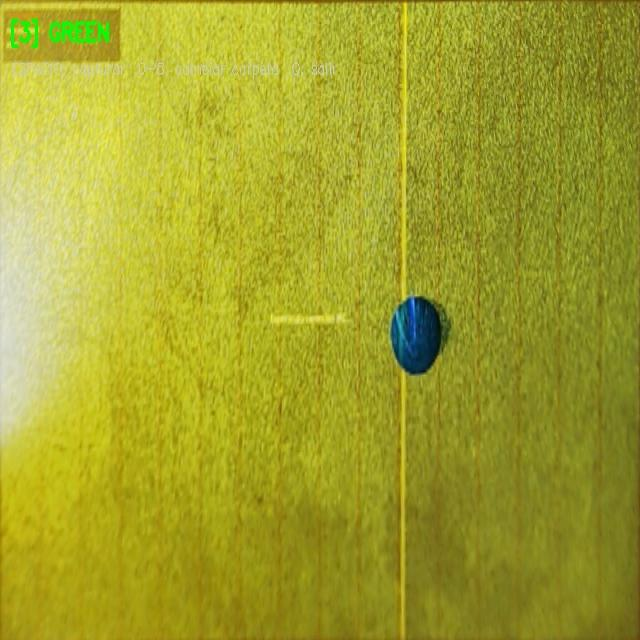green: (390, 293, 444, 377)
